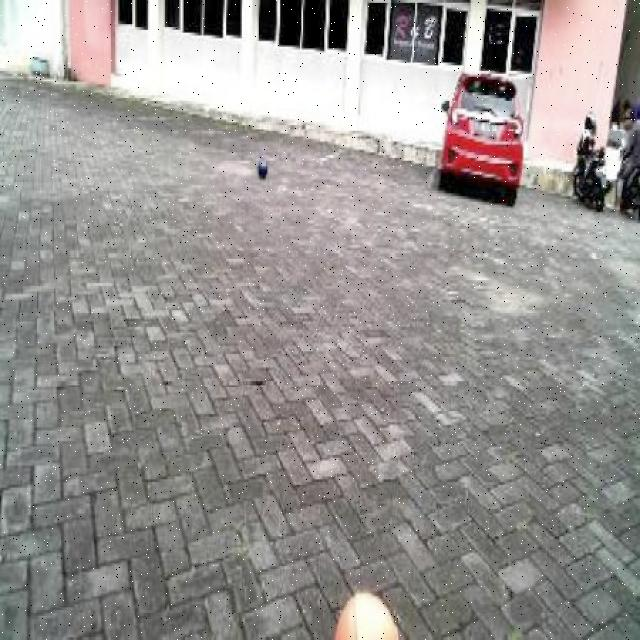buoy: (324, 579, 406, 636), (254, 150, 272, 186)
